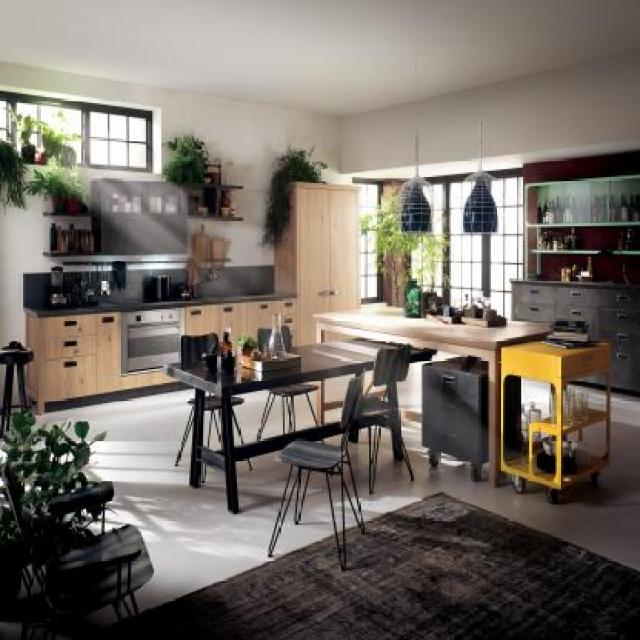Floor: (29, 381, 335, 613), (347, 418, 640, 572), (270, 466, 298, 552), (232, 390, 270, 443), (259, 395, 283, 440), (325, 374, 355, 402), (294, 394, 316, 431), (257, 394, 274, 440), (296, 469, 308, 520), (209, 413, 221, 451), (214, 410, 223, 449), (203, 411, 211, 447), (308, 391, 316, 421), (323, 434, 343, 446), (325, 408, 342, 422), (284, 396, 289, 434), (287, 397, 291, 412)
